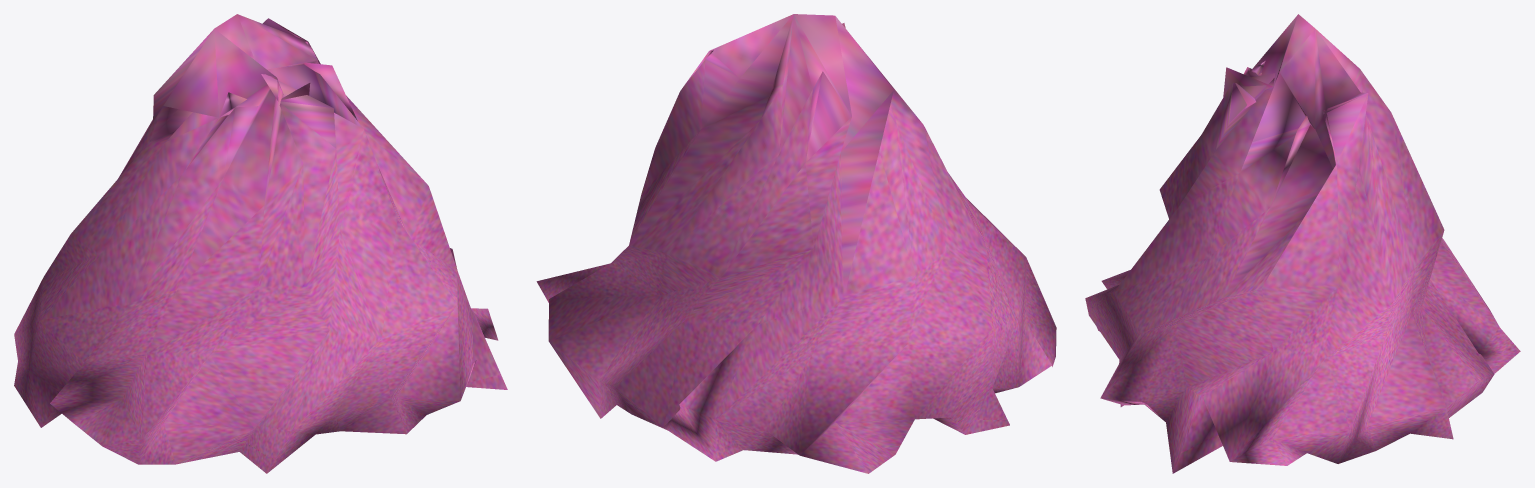
The model's file is Pink Topping.obj.
The picture shows the model from 3 angles, left to right: view 1: azimuth 30°, elevation 25°; view 2: azimuth 150°, elevation 25°; view 3: azimuth 270°, elevation 25°; orthographic projection. The views are drawn at different scales.
Visible parts, largest first — view 1: pink_dust; view 2: pink_dust; view 3: pink_dust.
Boxes of the visible parts, x1=… form: pink_dust: x1=14, y1=14, x2=507, y2=473; pink_dust: x1=536, y1=14, x2=1056, y2=473; pink_dust: x1=1085, y1=14, x2=1520, y2=473.
Bounding box in the file's own units: 0.1075 × 0.0861 × 0.0953.
